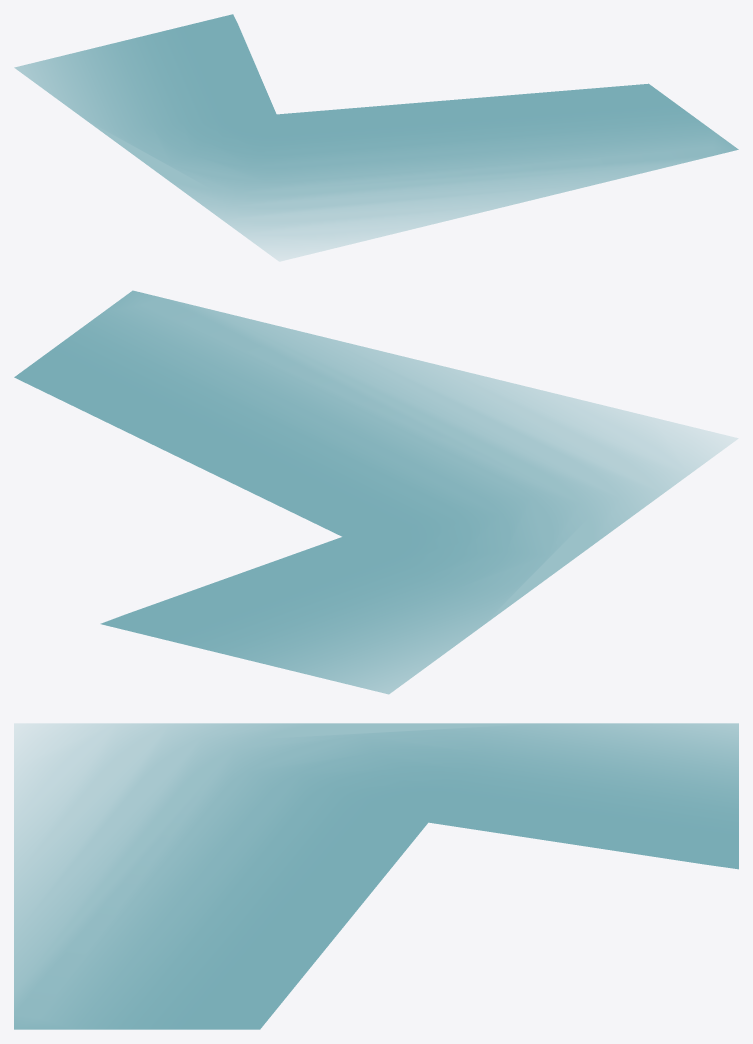
3 renders of one model, top to bottom at view 1: azimuth 30°, elevation 25°; view 2: azimuth 150°, elevation 25°; view 3: azimuth 270°, elevation 25°, orthographic. The views are drawn at different scales.
Parts seen in each view (by area): view 1: city; view 2: city; view 3: city.
Boxes of the visible parts, x1,y1,x2,y2 form: city: (14,14,738,260); city: (14,290,737,694); city: (14,723,738,1029).
Size of the model in its own units: 500 by 0 by 500.
